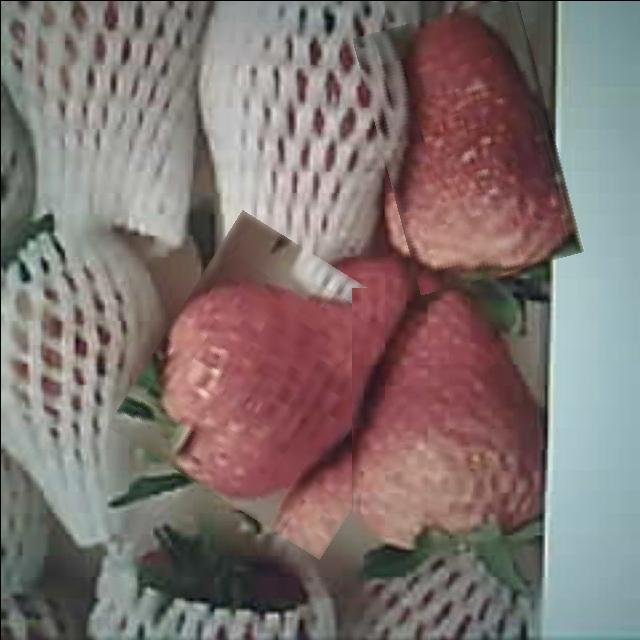strawberry: (130, 232, 430, 536), (367, 2, 569, 285), (351, 286, 543, 548)
